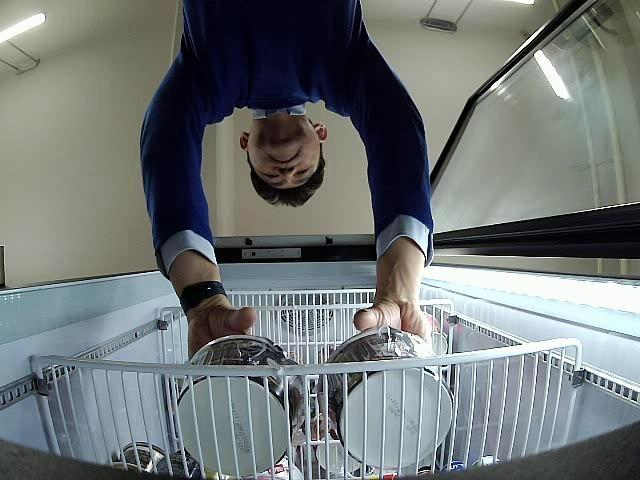07_buldak_L: (318, 326, 455, 468), (176, 336, 310, 475)
